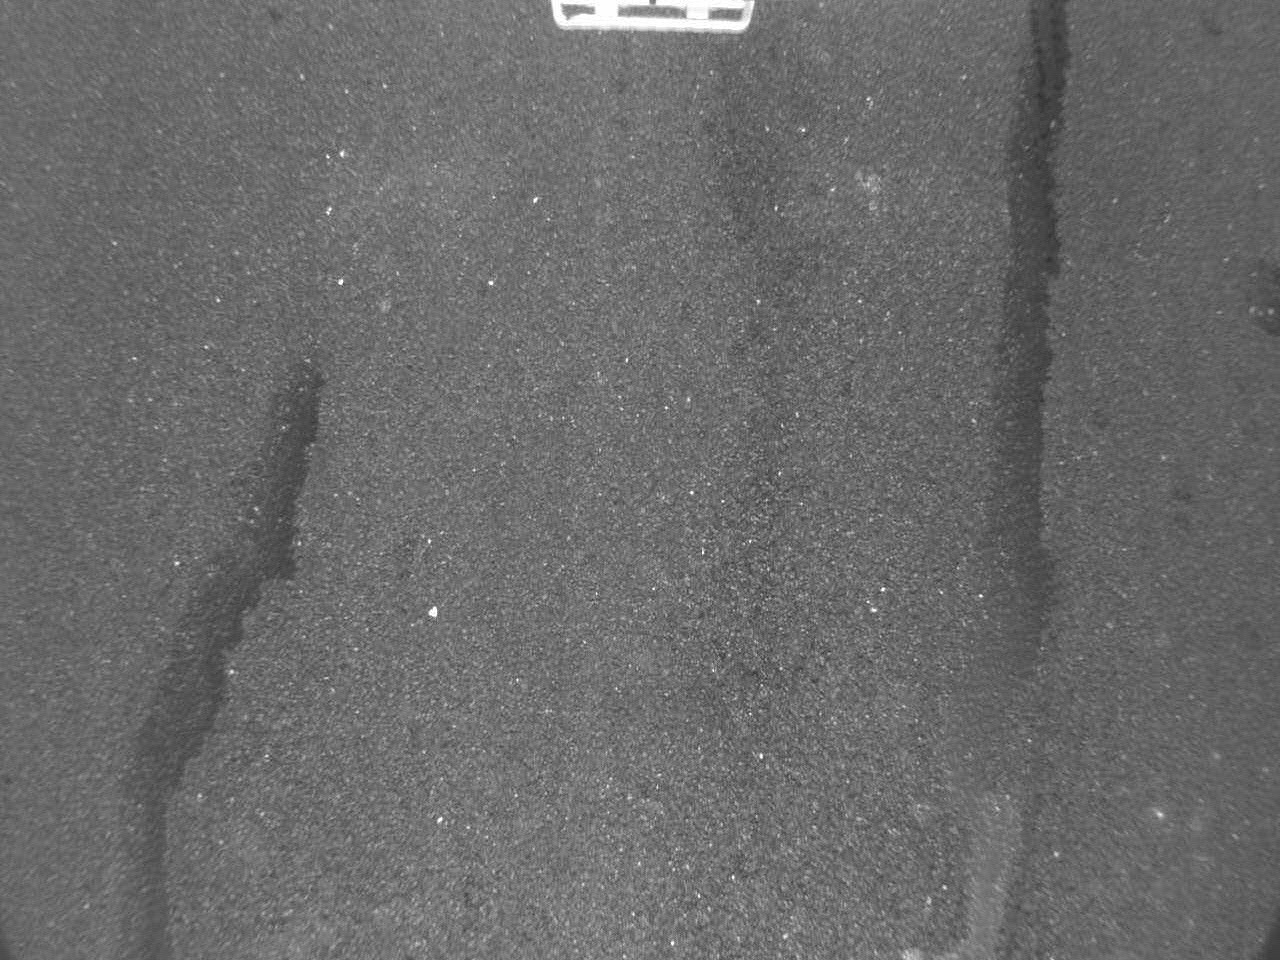sealed: (111, 358, 327, 958), (983, 1, 1070, 683)
